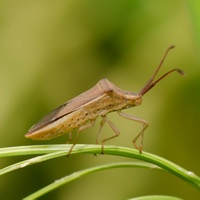insect: (25, 45, 183, 155)
